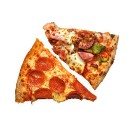pepperonipizza: (17, 23, 119, 101)
